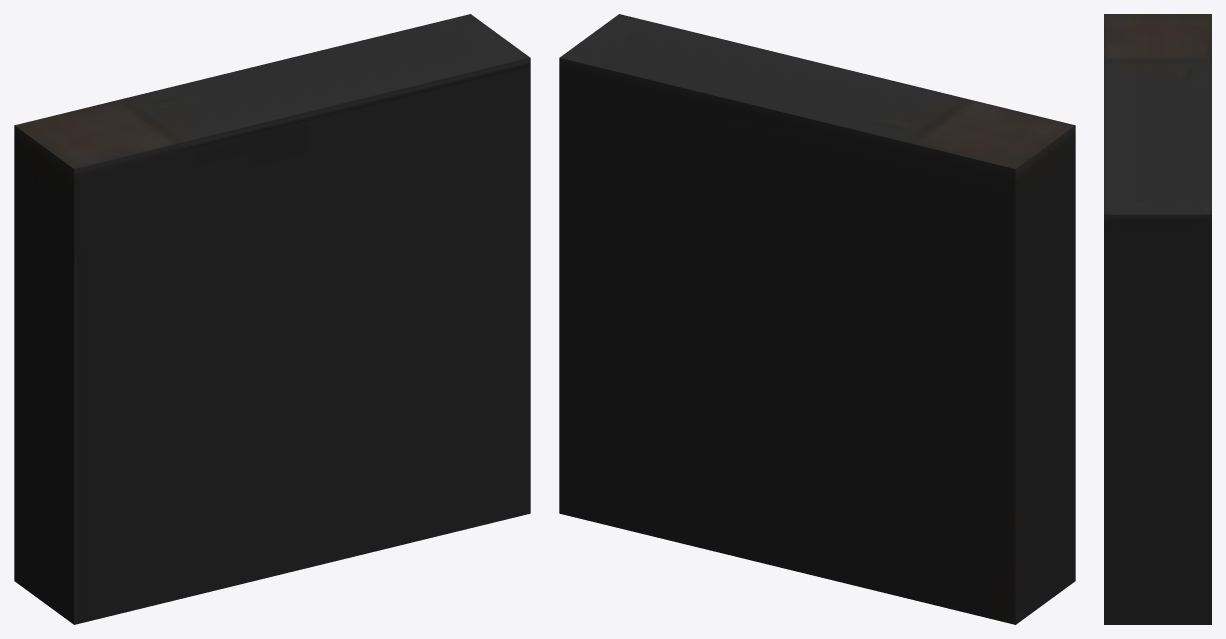
Rendered from drawer__handle_top_1.glb.
3 renders of one model, left to right at view 1: azimuth 30°, elevation 25°; view 2: azimuth 150°, elevation 25°; view 3: azimuth 270°, elevation 25°, orthographic. The views are drawn at different scales.
Parts seen in each view (by area): view 1: geometry_0; view 2: geometry_0; view 3: geometry_0.
Part boxes in pixels (left/top/right/bottom): geometry_0: left=14, top=14, right=530, bottom=624; geometry_0: left=559, top=14, right=1075, bottom=624; geometry_0: left=1104, top=14, right=1211, bottom=624.
Size of the model in its own units: 0.044 by 0.042 by 0.01.
Materials: 1 (1 with a texture image).
